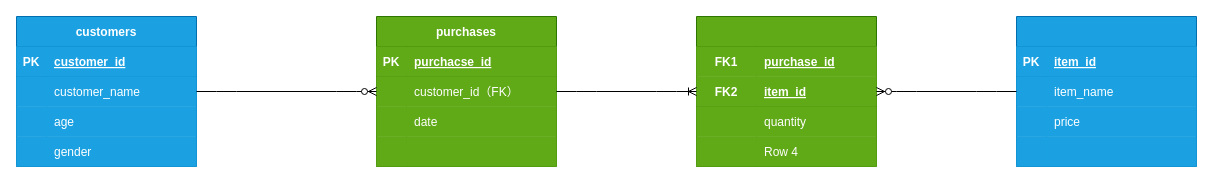
The diagram is 1213 pixels wide and 183 high, and some of its shapes have lost their labels. Here are the shapes that lost their labels. From the top down, the box of each, then its label:
(696, 16, 876, 166): purchase details
(1016, 16, 1196, 166): items
